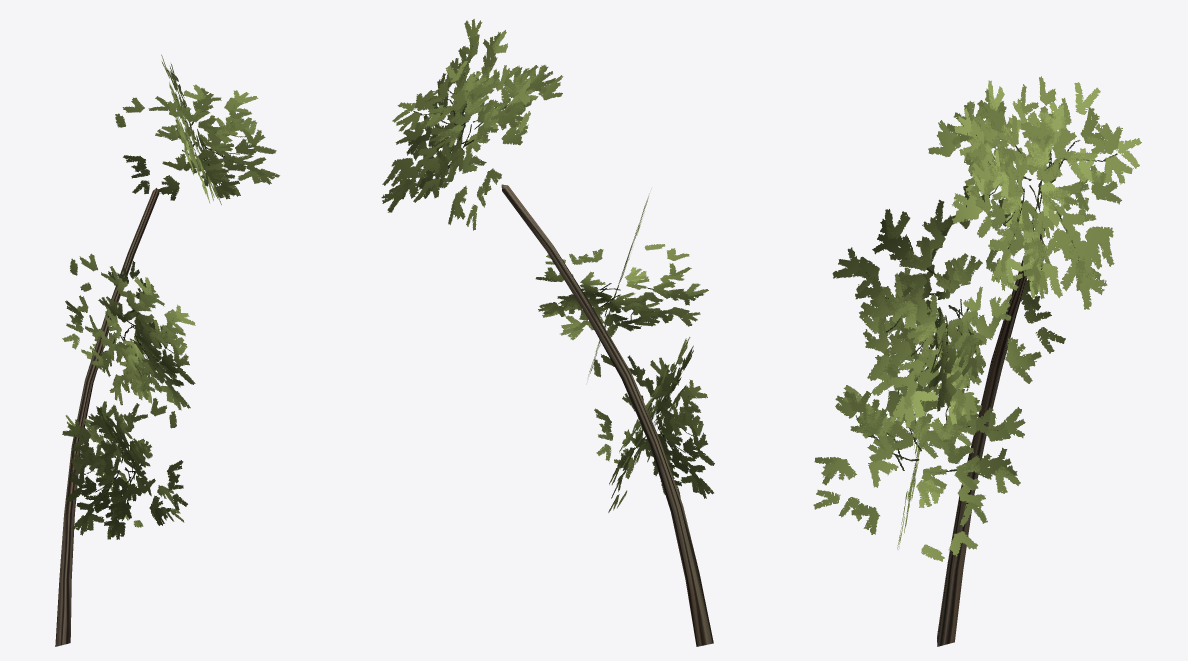
Rendered from seedling-b.lod1.glb.
3 renders of one model, left to right at view 1: azimuth 30°, elevation 25°; view 2: azimuth 150°, elevation 25°; view 3: azimuth 270°, elevation 25°, orthographic. The views are drawn at different scales.
Visible parts, largest first — view 1: foliage, bark; view 2: foliage, bark; view 3: foliage, bark.
Part boxes in pixels (left/top/right/bottom): foliage: left=62, top=54, right=279, bottom=539; bark: left=55, top=188, right=159, bottom=646; foliage: left=381, top=19, right=714, bottom=512; bark: left=501, top=184, right=713, bottom=646; foliage: left=813, top=76, right=1141, bottom=561; bark: left=937, top=228, right=1045, bottom=646.
Size of the model in its own units: 0.1986 by 0.35 by 0.1795.
Materials: 2 (2 with a texture image).
